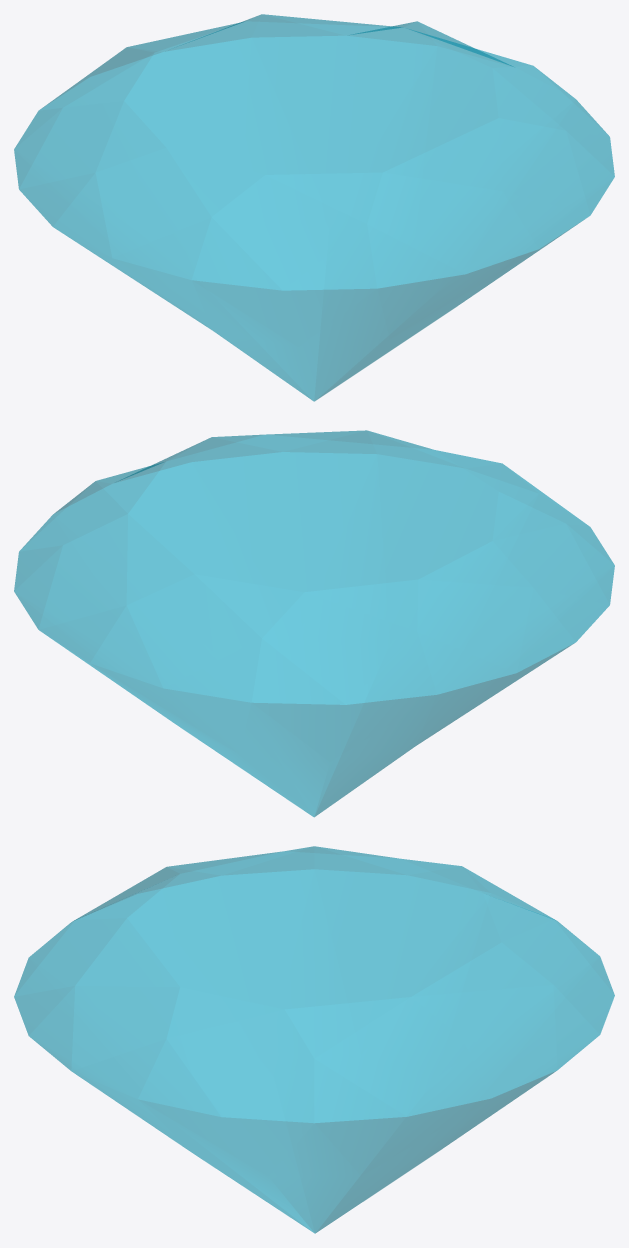
File: Diamond3D.fbx
3 renders of one model, top to bottom at view 1: azimuth 30°, elevation 25°; view 2: azimuth 150°, elevation 25°; view 3: azimuth 270°, elevation 25°, orthographic.
Visible parts, largest first — view 1: Diamond; view 2: Diamond; view 3: Diamond.
Boxes of the visible parts, x1,y1,x2,y2 form: Diamond: (14, 14, 614, 401); Diamond: (14, 430, 614, 817); Diamond: (14, 846, 614, 1233).
Size of the model in its own units: 1.98 by 1.11 by 1.98.
